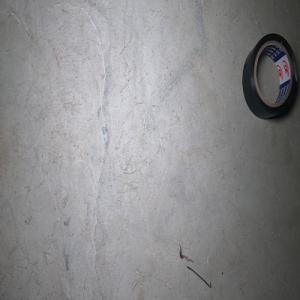Tape: (242, 32, 298, 119)
